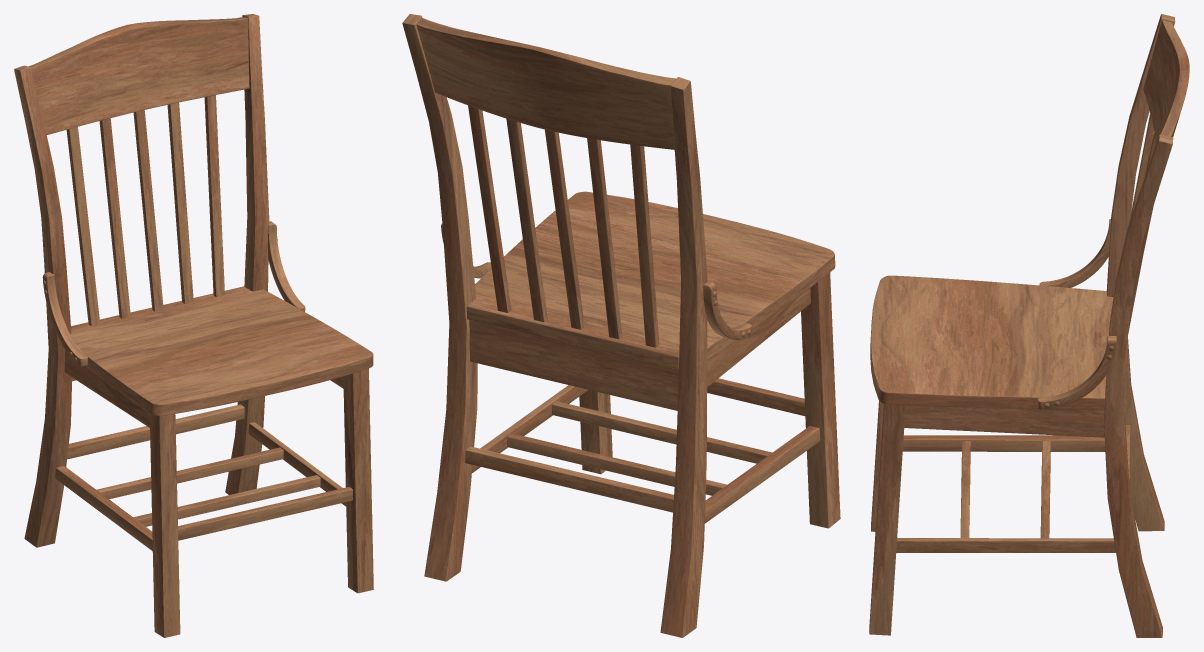
3 views of the same model, side by side, from view 1: azimuth 30°, elevation 25°; view 2: azimuth 150°, elevation 25°; view 3: azimuth 270°, elevation 25° (orthographic). The views are drawn at different scales.
Parts seen in each view (by area): view 1: Chair; view 2: Chair; view 3: Chair.
Part boxes in pixels (box(x1,y1,x2,y2)): Chair: box(14, 14, 373, 637); Chair: box(402, 14, 840, 637); Chair: box(869, 14, 1189, 637).
Size of the model in its own units: 51.23 by 98.72 by 55.64.
Materials: 1 (1 with a texture image).
